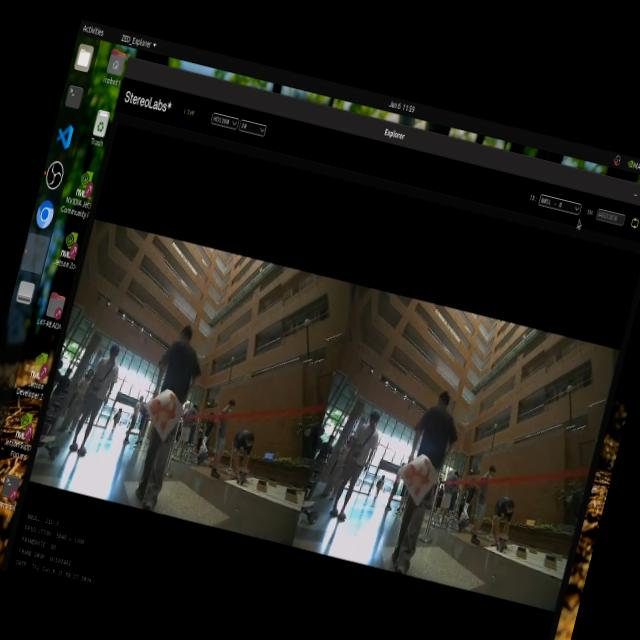red: (142, 388, 182, 432), (392, 464, 436, 504)
